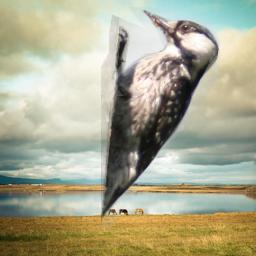Woodpecker: (101, 7, 220, 229)
